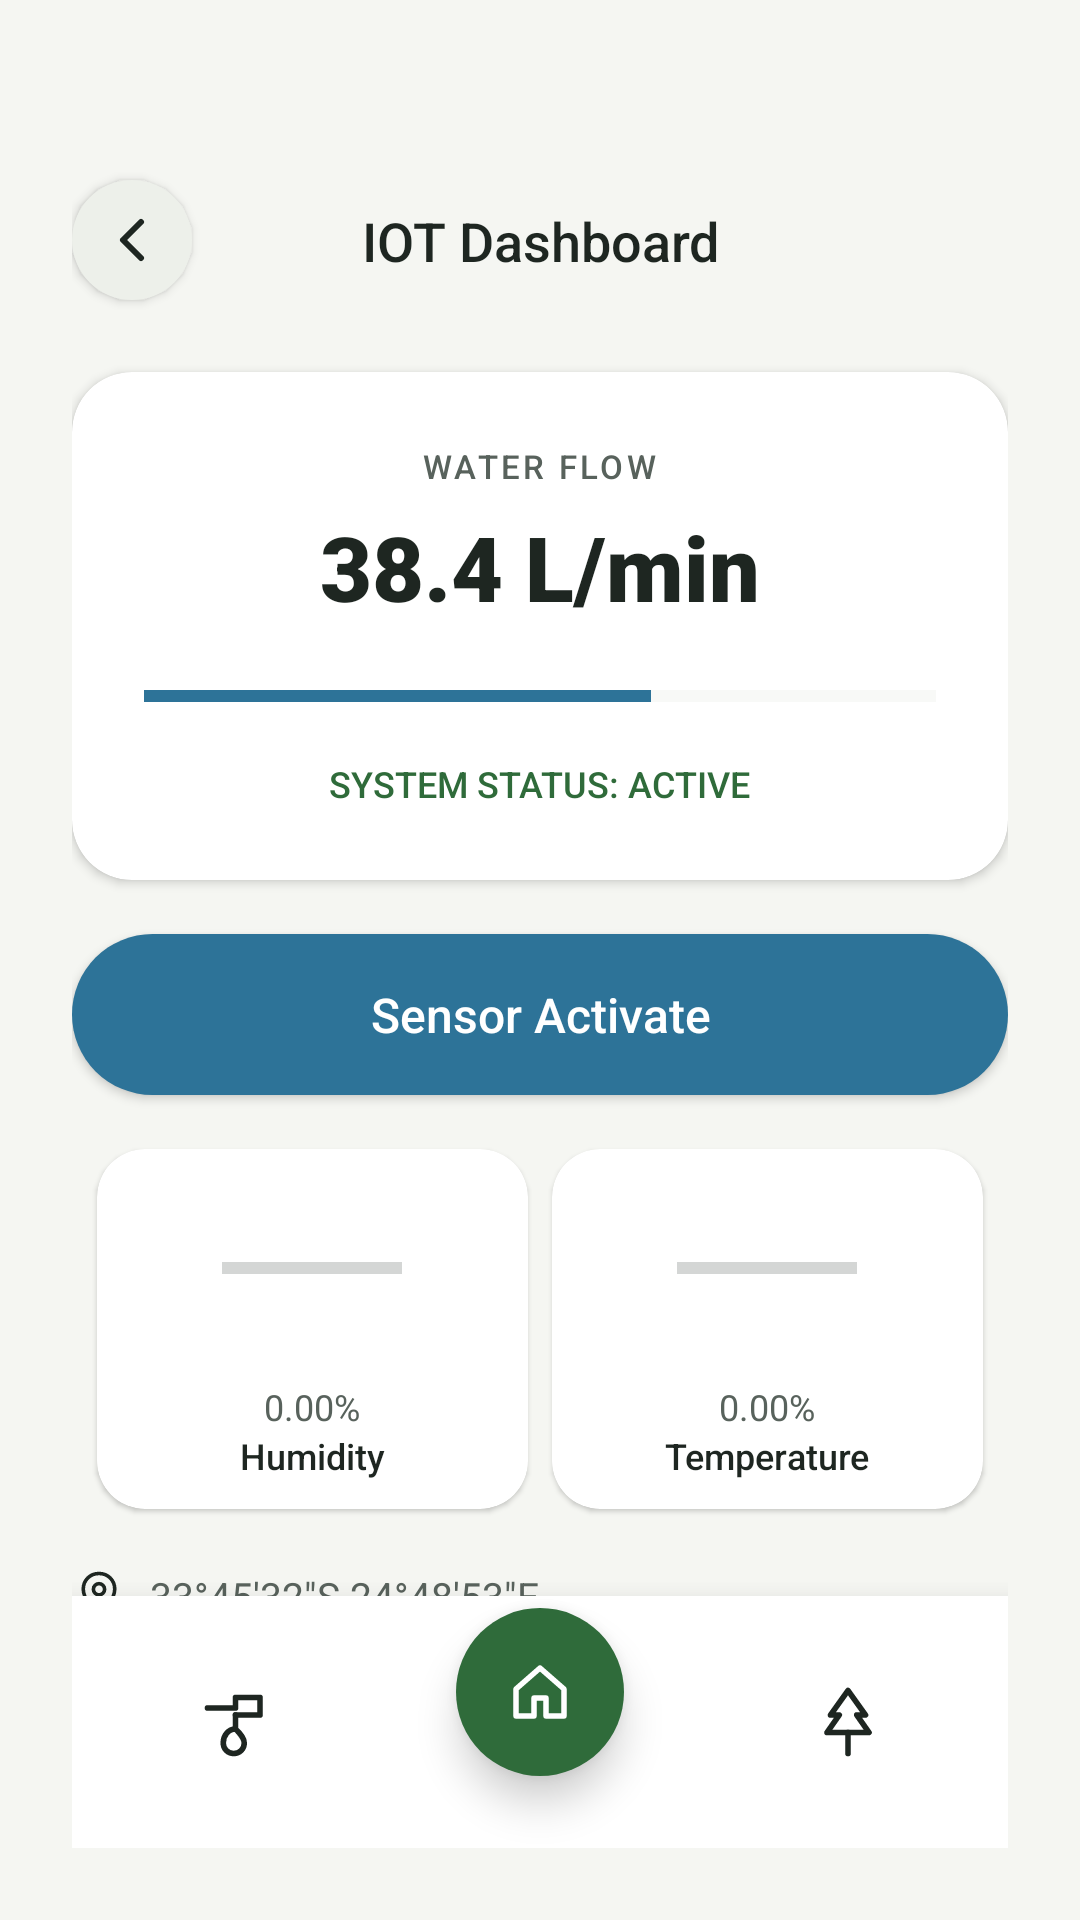

Where icons sit on this 1080px x 1920px app screen, as (x1, y1, x2, y2):
Back: (72, 181, 165, 300)
Home: (456, 1608, 624, 1776)
Valve control: (204, 1694, 263, 1757)
